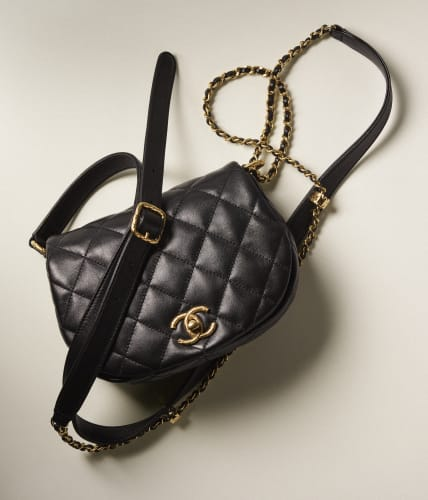channel: (8, 172, 303, 397), (201, 61, 322, 180), (192, 202, 284, 288), (160, 300, 235, 348)
